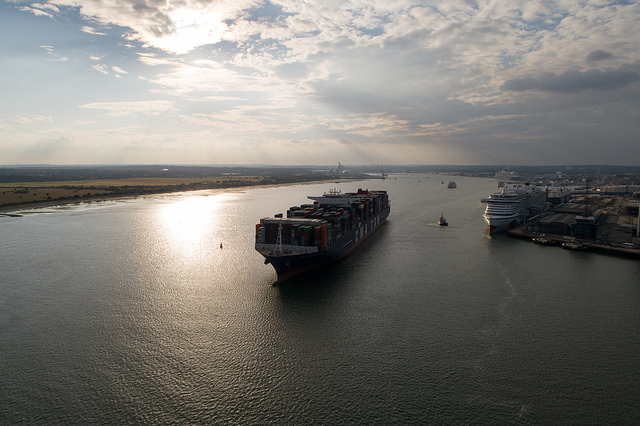container_ship: (254, 186, 391, 285)
cruise_ship: (476, 184, 541, 238)
tug_boat: (436, 215, 452, 224)
